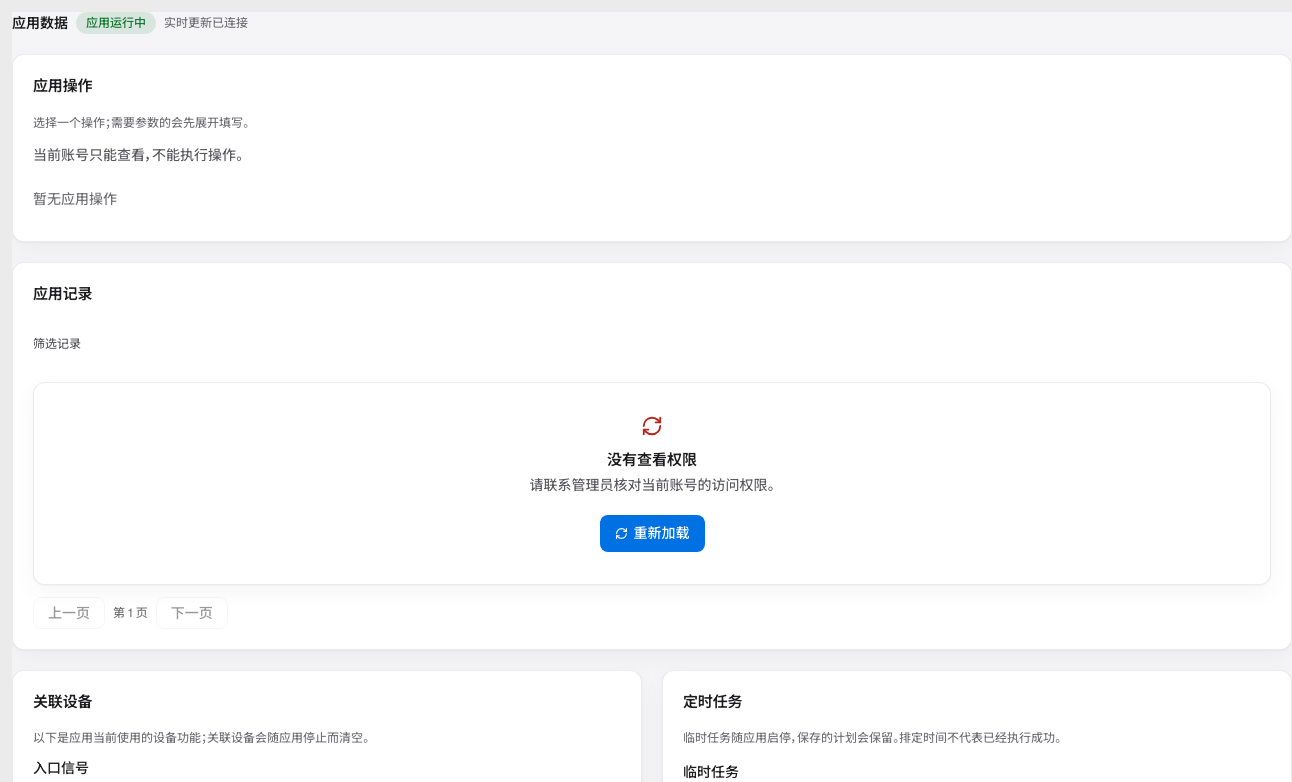
Test: 应用数据读取和通用展示 › 权限拒绝可重试，单个分区失败不遮住其他已获准的数据
Expected: the message "没有查看权限 请联系管理员核对当前账号的访问权限。 重新加载" is shown, left=33, top=382, right=1271, bottom=585
Expected: the text "入口信号" is shown, left=33, top=758, right=89, bottom=776
Click the button "重新加载": [652, 534] box left=600, top=515, right=704, bottom=552
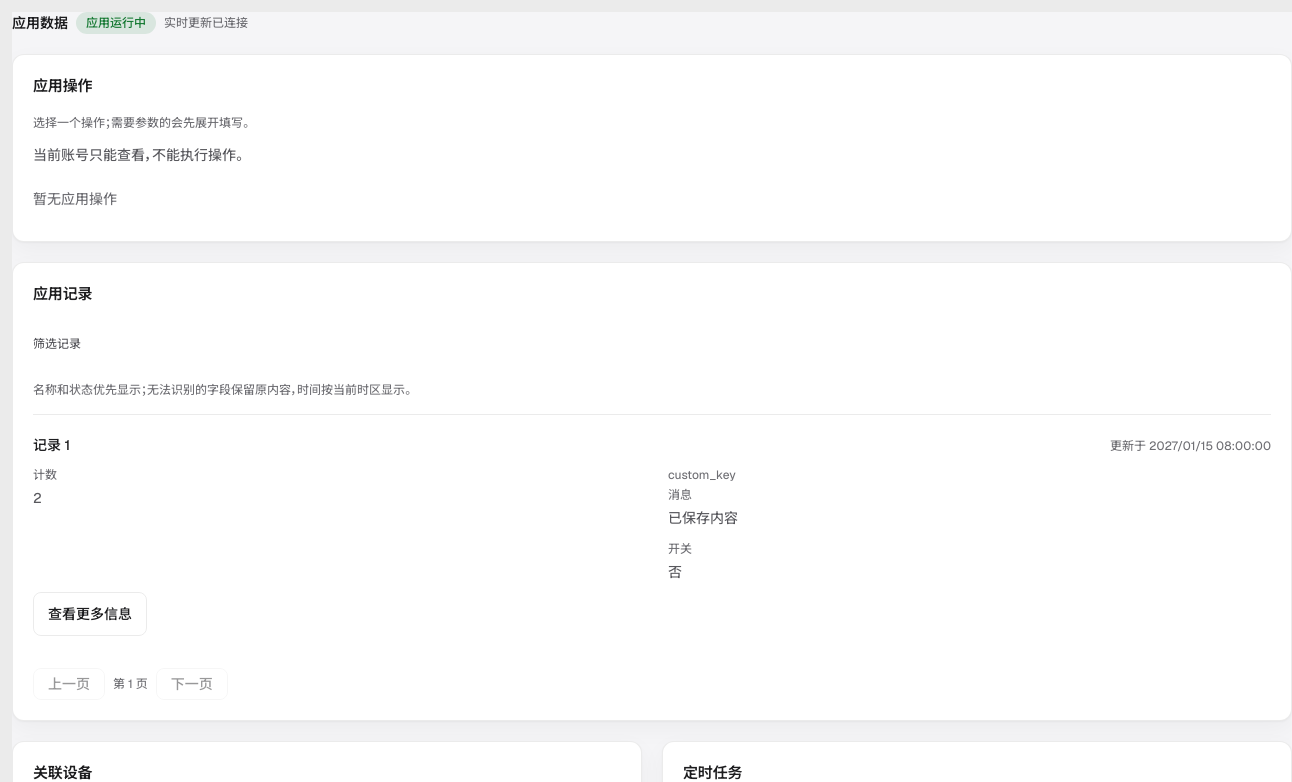
Expected: the text "已保存内容" is shown, left=668, top=508, right=738, bottom=526
Expected: the message "没有查看权限 请联系管理员核对当前账号的访问权限。 重新加载" is gone
